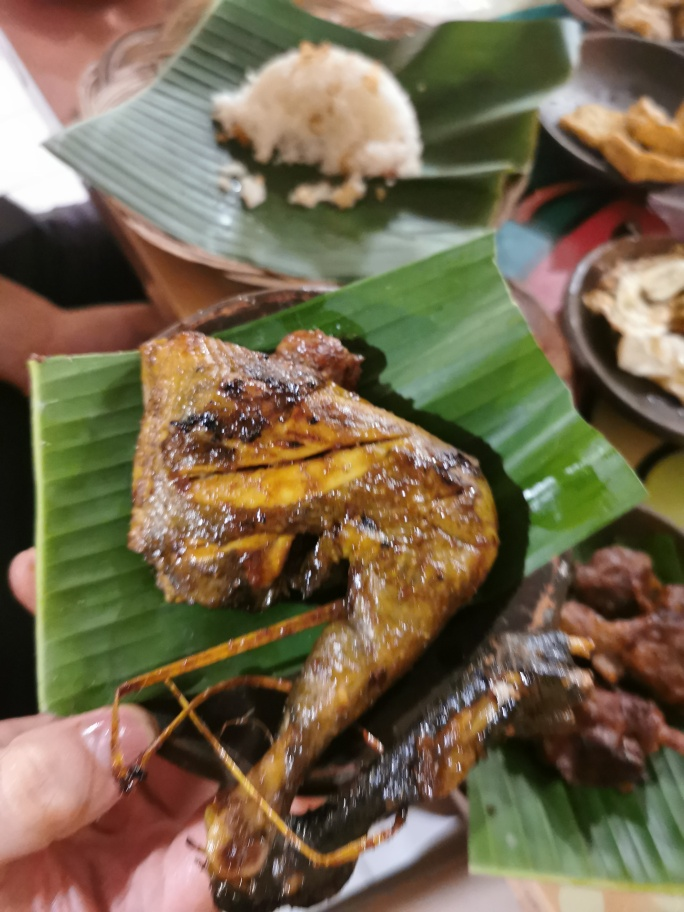ayam bakar: (136, 330, 588, 906)
